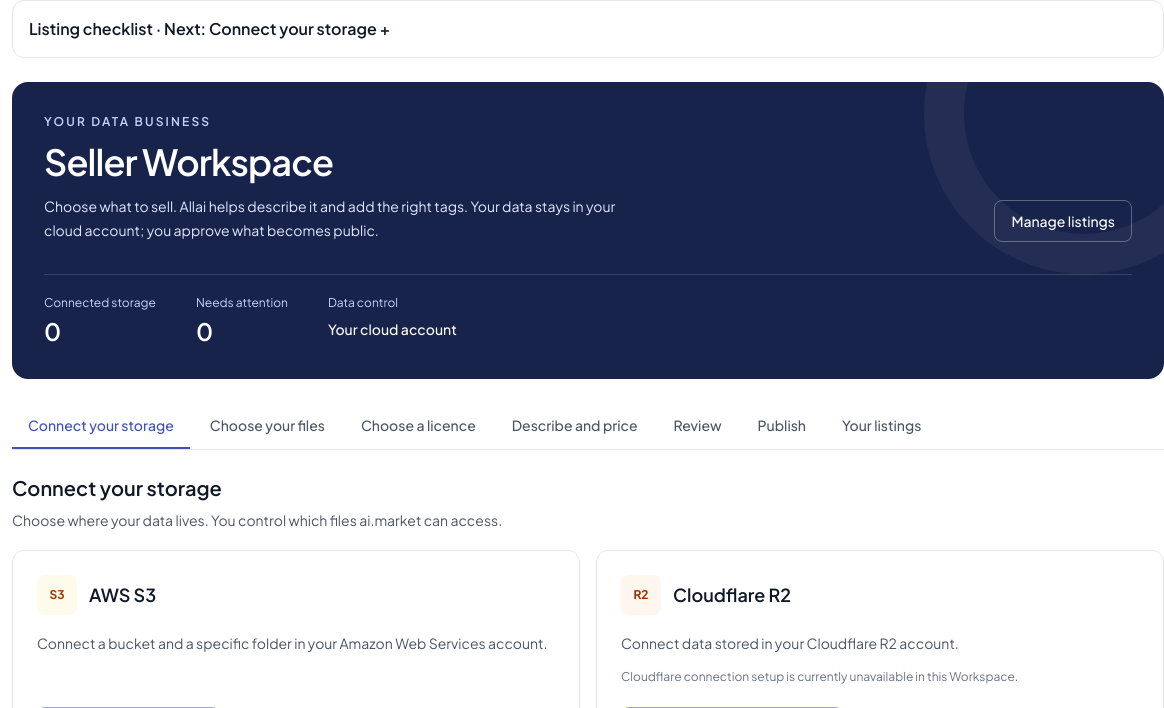
Test: SellerWorkspacePage safety boundaries › can prepare a private draft before connecting AWS when the backend enables drafts
Click the button "Describe and price". click: x=575, y=426
box: [496,403,654,449]
(page scrolled)
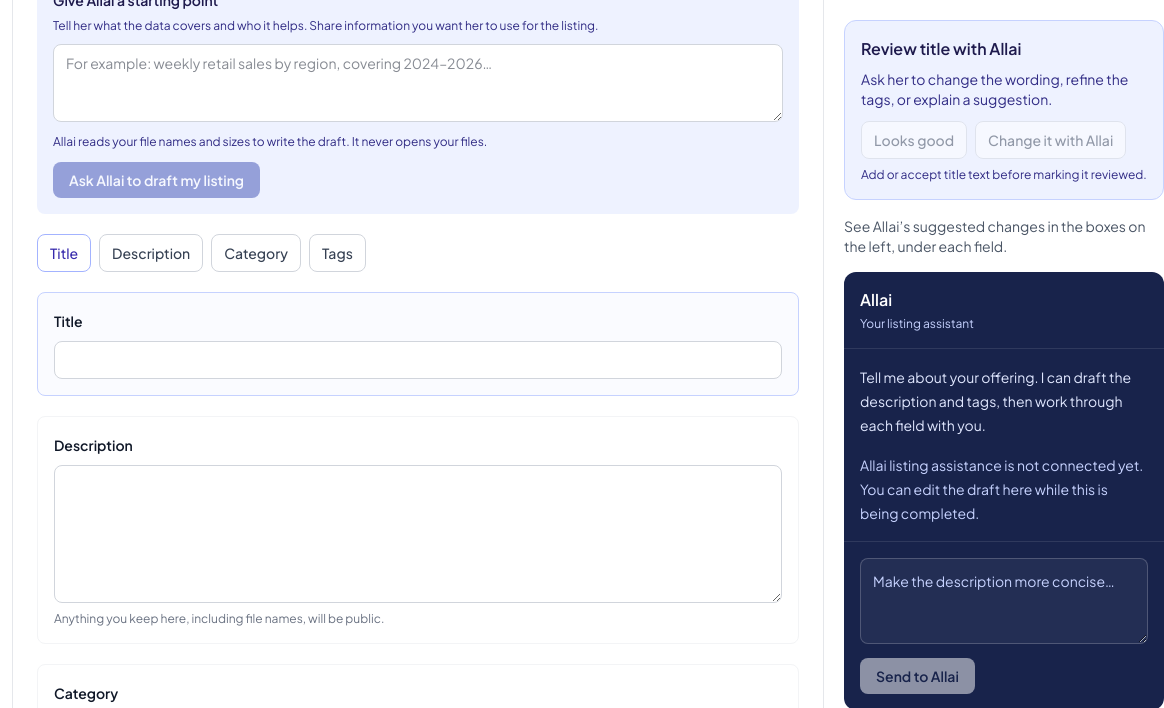
Type "My listing" into the text box labelled "Title". click: x=418, y=360
box: [54,341,782,379]
(page scrolled)
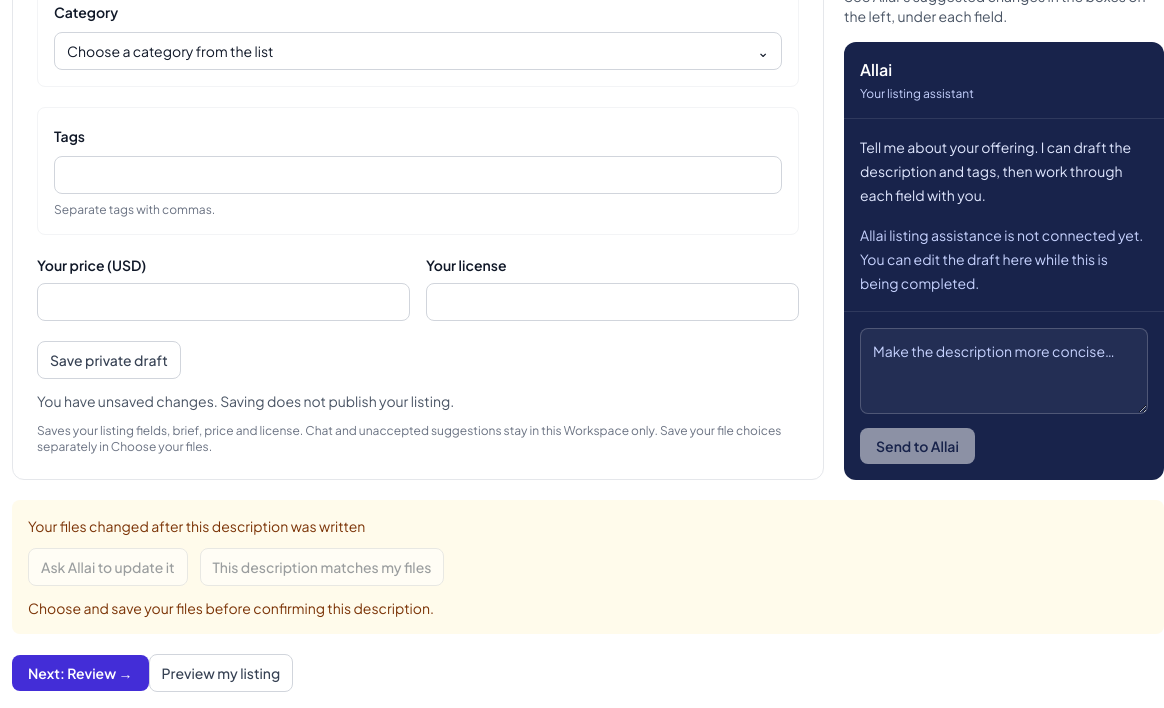
Expected: the button "Save private draft" is shown, [37,341,181,379]
